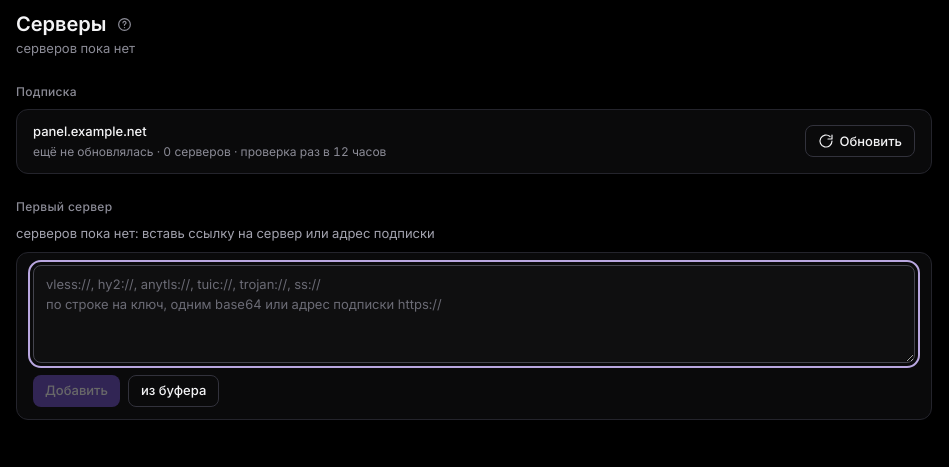
Scenario: серверы: из буфера и с экрана › мусор в буфере: отказ словами, команды нет, текст буфера не показан
Click the button with test id "iz-bufera" at (174, 390), box top-left (128, 374), bottom-right (219, 406)
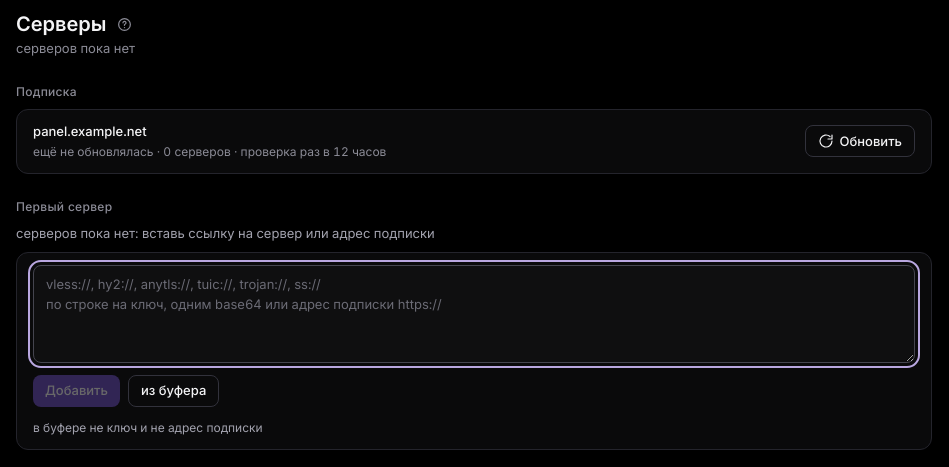
Expected: the text with test id "ishod-vvoda" does not show "секретный", top-left (33, 420), bottom-right (263, 434)
Expected: the text with test id "ishod-vvoda" reads "в буфере не ключ и не адрес подписки", top-left (33, 420), bottom-right (263, 434)
